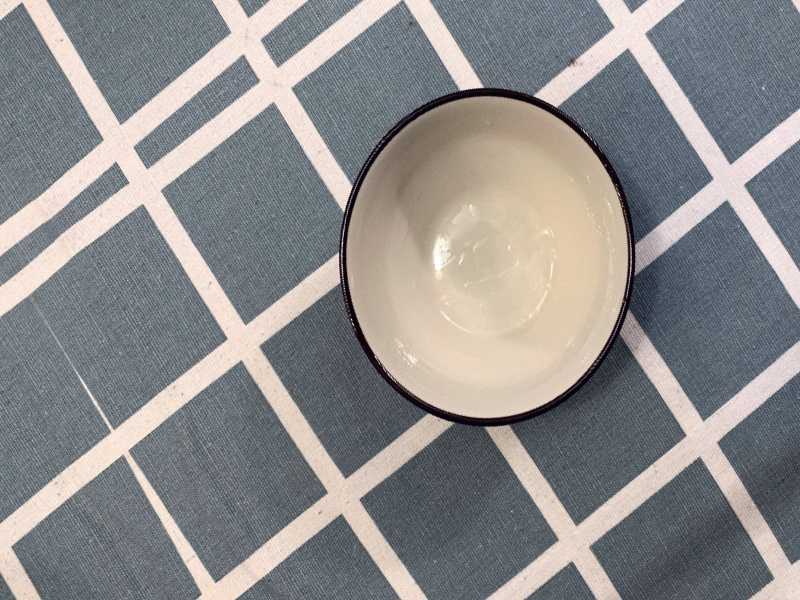bowl_small: (271, 8, 706, 507)
